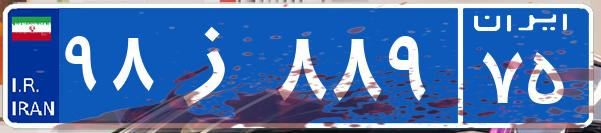5: (525, 38, 570, 115)
7: (475, 38, 525, 113)
8: (273, 28, 330, 110), (330, 28, 385, 110), (110, 28, 158, 105)
9: (385, 28, 445, 110), (57, 26, 110, 107)
ز: (158, 15, 273, 115)
